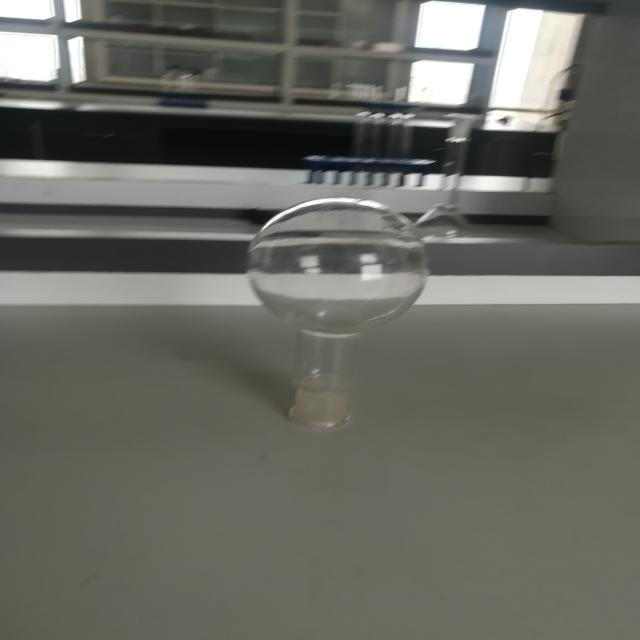Round_Bottom_Flask_Borosilicate_Glass_1_Neck: (207, 189, 459, 449)
